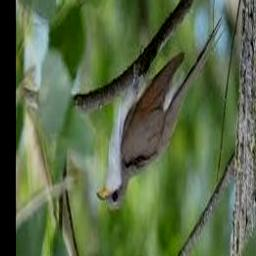Cuckoo: (96, 18, 225, 210)
